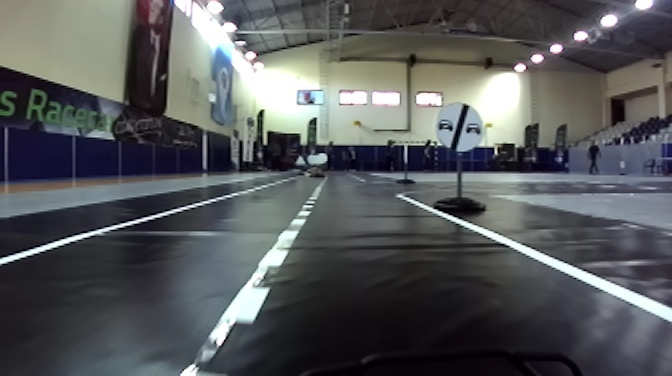sollama_serbest: (434, 100, 483, 151)
